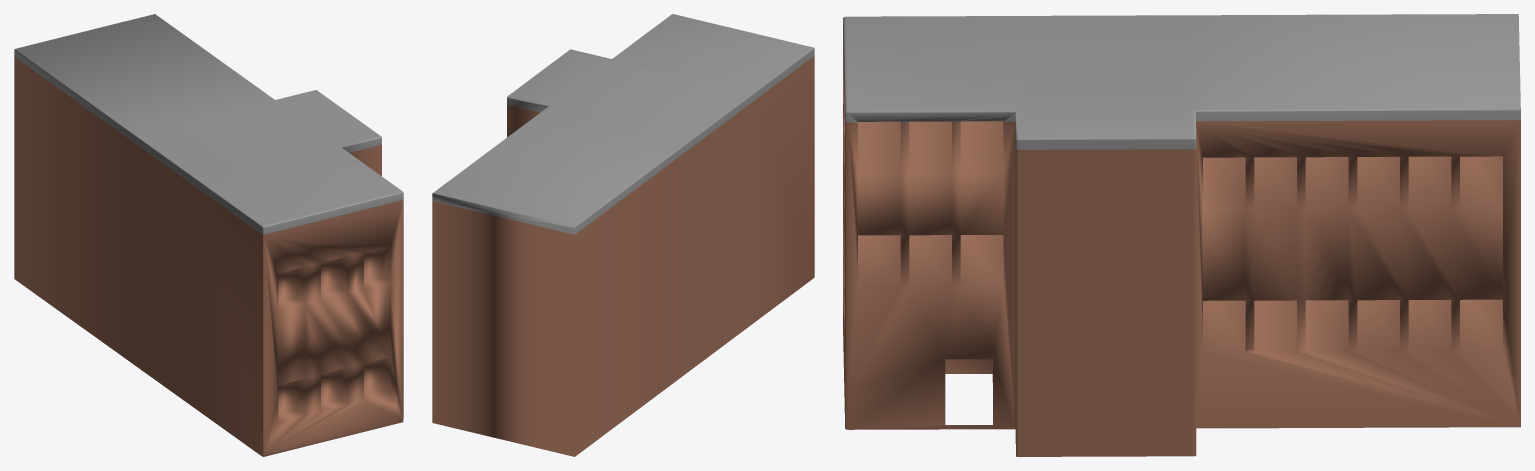
Rendered from mechaniekers.glb.
3 views of the same model, side by side, from view 1: azimuth 30°, elevation 25°; view 2: azimuth 150°, elevation 25°; view 3: azimuth 270°, elevation 25° (orthographic). The views are drawn at different scales.
Visible parts, largest first — view 1: mechaniekers; view 2: mechaniekers; view 3: mechaniekers.
Part boxes in pixels (left/top/right/bottom): mechaniekers: left=14, top=14, right=403, bottom=456; mechaniekers: left=432, top=14, right=814, bottom=456; mechaniekers: left=843, top=14, right=1520, bottom=456.
Bounding box in the file's own units: 0.5483 × 0.648 × 1.25.
